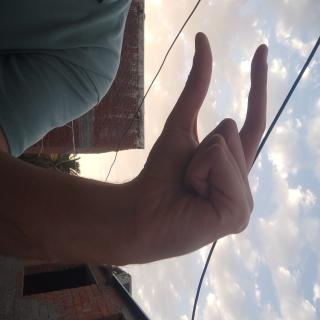DELL: (20, 62, 201, 262)
